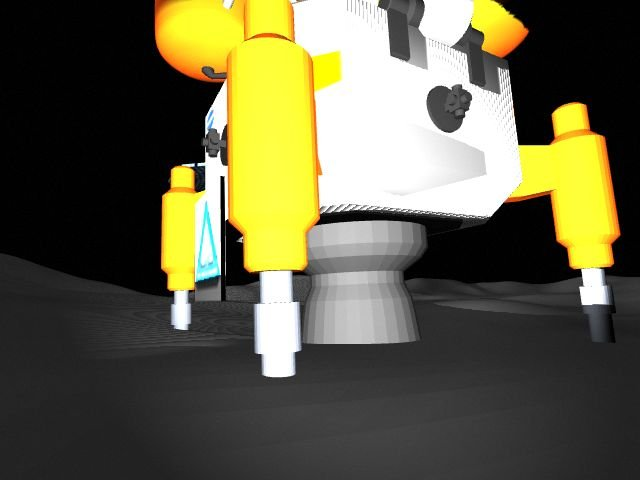basemarker: (196, 201, 220, 280)
